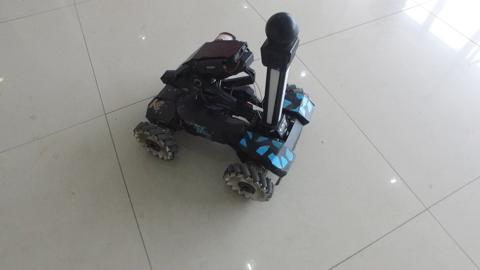chariot: (131, 26, 323, 207)
